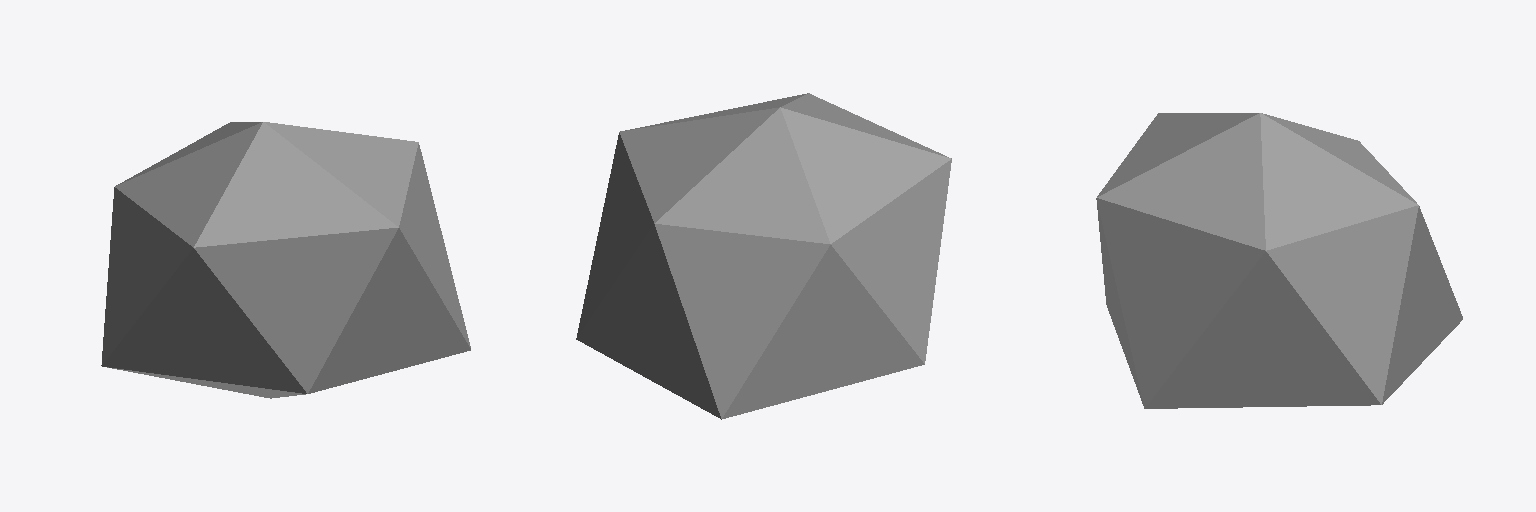
The model's file is st_rock.obj.
The picture shows the model from 3 angles: view 1: azimuth 30°, elevation 25°; view 2: azimuth 150°, elevation 25°; view 3: azimuth 270°, elevation 25°; orthographic projection.
Parts seen in each view (by area): view 1: Rock.002_Icosphere.001; view 2: Rock.002_Icosphere.001; view 3: Rock.002_Icosphere.001.
Boxes of the visible parts, <box> form: Rock.002_Icosphere.001: <box>101,122,470,398</box>; Rock.002_Icosphere.001: <box>576,93,951,419</box>; Rock.002_Icosphere.001: <box>1096,113,1462,408</box>.
Bounding box in the file's own units: 1.08 × 0.9429 × 1.1.